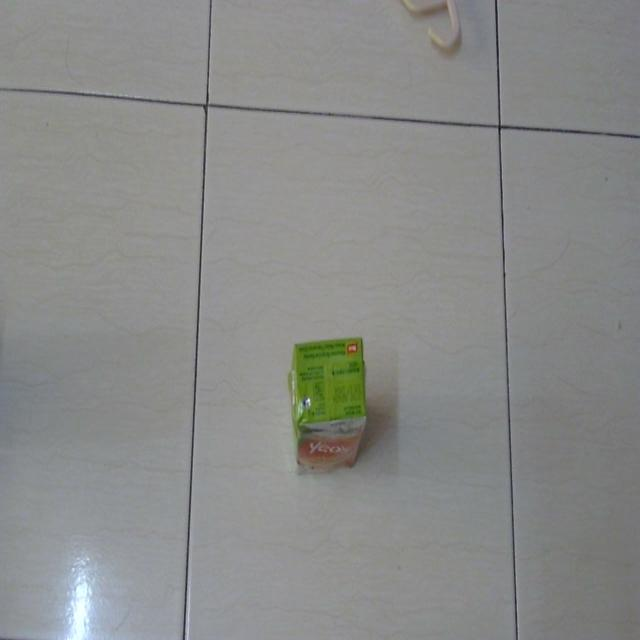plastic_standrotation: (280, 322, 373, 478)
